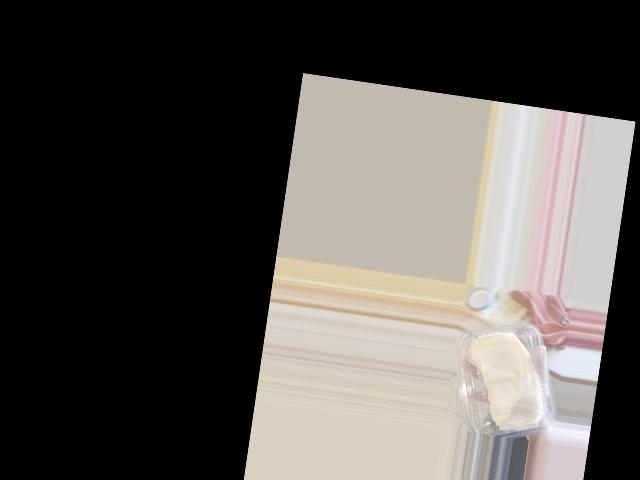cheese: (447, 310, 561, 443)
